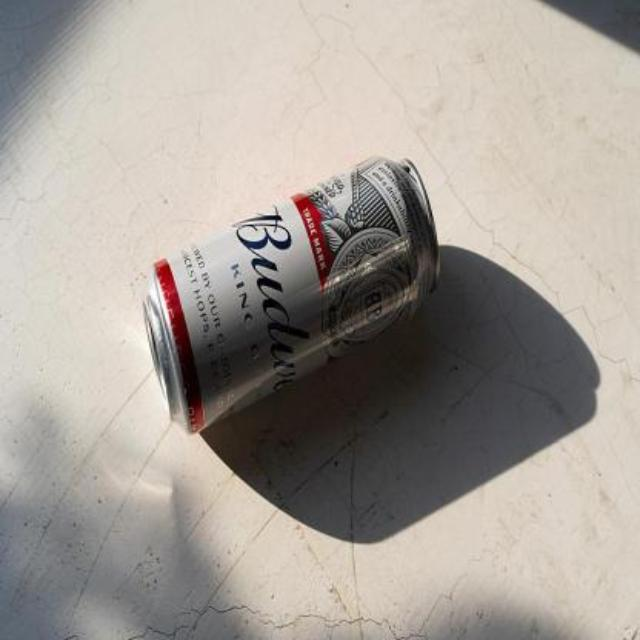metal: (143, 155, 435, 429)
